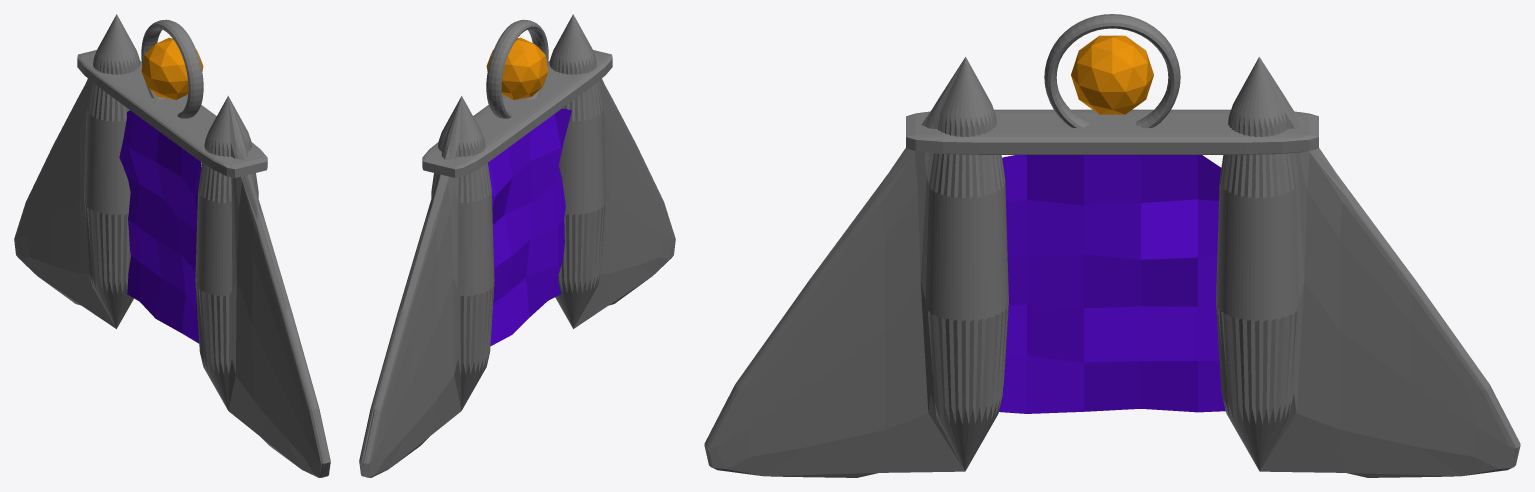
The picture shows the model from 3 angles, left to right: view 1: azimuth 30°, elevation 25°; view 2: azimuth 150°, elevation 25°; view 3: azimuth 270°, elevation 25°; orthographic projection. The views are drawn at different scales.
Parts seen in each view (by area): view 1: RightPillar, LeftPillar, PortalEnergy, TopLedge, CenterBall, CenterTorus; view 2: LeftPillar, RightPillar, PortalEnergy, TopLedge, CenterBall, CenterTorus; view 3: RightPillar, LeftPillar, PortalEnergy, TopLedge, CenterBall, CenterTorus.
Part boxes in pixels (x1=…): RightPillar: x1=195, y1=96, x2=330, y2=477; LeftPillar: x1=14, y1=14, x2=140, y2=328; PortalEnergy: x1=119, y1=110, x2=201, y2=343; TopLedge: x1=77, y1=50, x2=267, y2=177; CenterBall: x1=141, y1=37, x2=203, y2=99; CenterTorus: x1=141, y1=19, x2=203, y2=118; LeftPillar: x1=359, y1=96, x2=494, y2=477; RightPillar: x1=549, y1=14, x2=675, y2=328; PortalEnergy: x1=488, y1=108, x2=571, y2=345; TopLedge: x1=422, y1=50, x2=612, y2=177; CenterBall: x1=486, y1=37, x2=548, y2=99; CenterTorus: x1=486, y1=19, x2=548, y2=118; RightPillar: x1=704, y1=57, x2=1008, y2=477; LeftPillar: x1=1216, y1=57, x2=1520, y2=477; PortalEnergy: x1=999, y1=155, x2=1225, y2=413; TopLedge: x1=906, y1=109, x2=1318, y2=154; CenterBall: x1=1071, y1=35, x2=1153, y2=114; CenterTorus: x1=1044, y1=14, x2=1180, y2=128.
Bounding box in the file's own units: 0.762 × 4.49 × 7.18.
